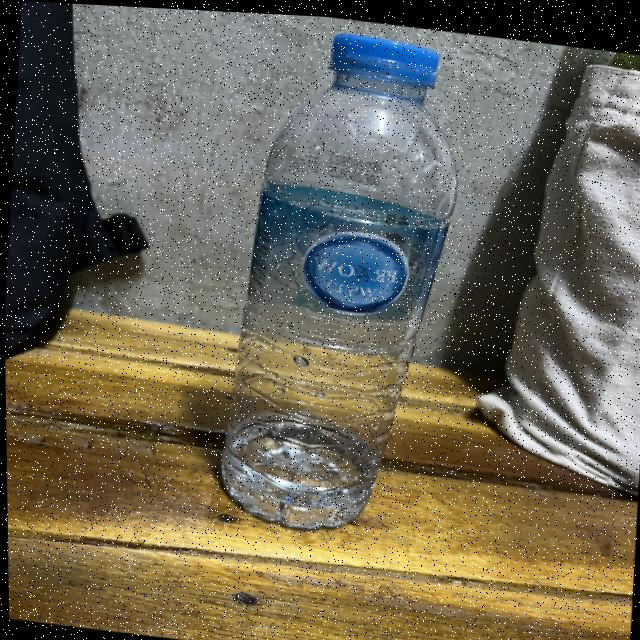bottle: (196, 8, 486, 557)
